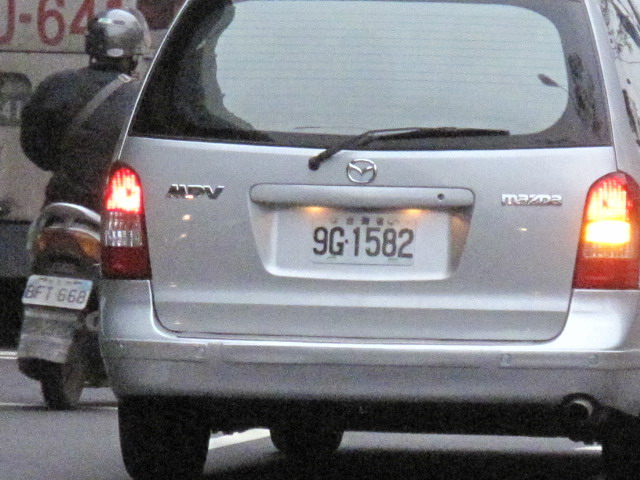plate: (310, 210, 418, 270), (19, 268, 94, 312)
